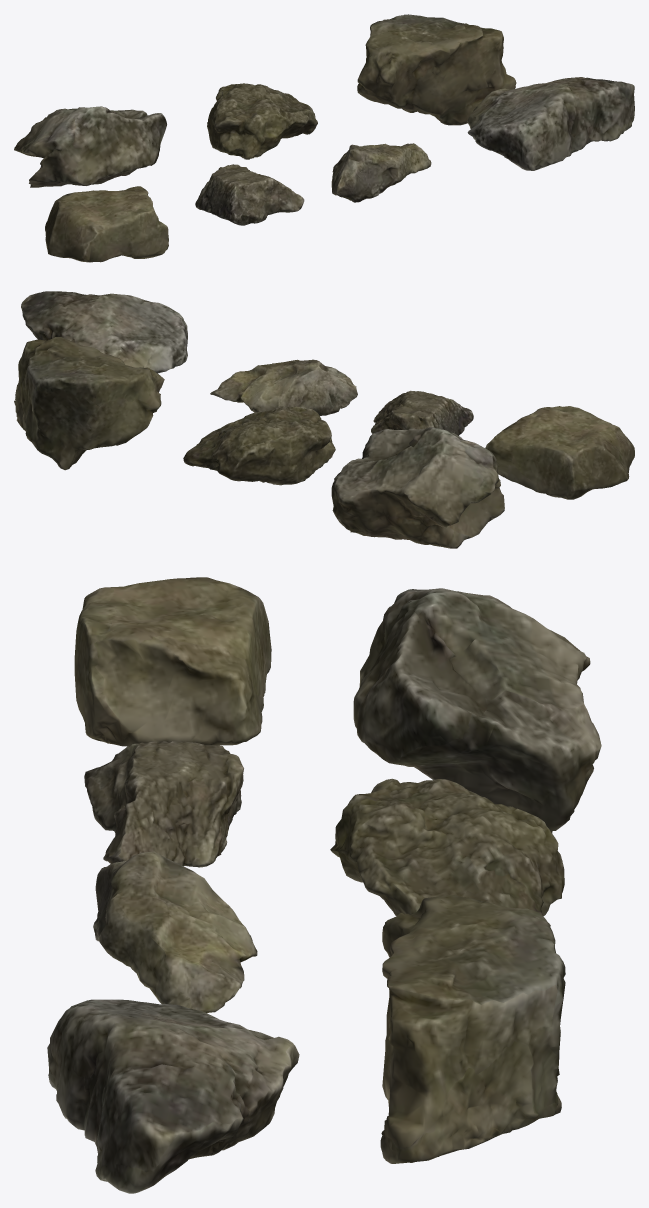
Rendered from rock_moss_set_02.glb.
The picture shows the model from 3 angles, top to bottom: view 1: azimuth 30°, elevation 25°; view 2: azimuth 150°, elevation 25°; view 3: azimuth 270°, elevation 25°; orthographic projection. The views are drawn at different scales.
Visible parts, largest first — view 1: rock_moss_set_02_rock13, rock_moss_set_02_rock10, rock_moss_set_02_rock11, rock_moss_set_02_rock07, rock_moss_set_02_rock12, rock_moss_set_02_rock08, rock_moss_set_02_rock09; view 2: rock_moss_set_02_rock11, rock_moss_set_02_rock13, rock_moss_set_02_rock07, rock_moss_set_02_rock10, rock_moss_set_02_rock12, rock_moss_set_02_rock09, rock_moss_set_02_rock08; view 3: rock_moss_set_02_rock13, rock_moss_set_02_rock11, rock_moss_set_02_rock10, rock_moss_set_02_rock07, rock_moss_set_02_rock12, rock_moss_set_02_rock09, rock_moss_set_02_rock08.
Part boxes in pixels (left/top/right/bottom): rock_moss_set_02_rock13: left=357, top=14, right=516, bottom=125; rock_moss_set_02_rock10: left=467, top=77, right=634, bottom=170; rock_moss_set_02_rock11: left=14, top=106, right=166, bottom=187; rock_moss_set_02_rock07: left=45, top=186, right=168, bottom=262; rock_moss_set_02_rock12: left=207, top=83, right=317, bottom=159; rock_moss_set_02_rock08: left=195, top=164, right=304, bottom=225; rock_moss_set_02_rock09: left=331, top=143, right=431, bottom=202; rock_moss_set_02_rock11: left=331, top=427, right=504, bottom=548; rock_moss_set_02_rock13: left=14, top=337, right=164, bottom=470; rock_moss_set_02_rock07: left=485, top=406, right=634, bottom=499; rock_moss_set_02_rock10: left=21, top=291, right=187, bottom=373; rock_moss_set_02_rock12: left=183, top=406, right=335, bottom=485; rock_moss_set_02_rock09: left=210, top=359, right=357, bottom=415; rock_moss_set_02_rock08: left=371, top=390, right=473, bottom=435; rock_moss_set_02_rock13: left=380, top=895, right=565, bottom=1163; rock_moss_set_02_rock11: left=353, top=588, right=601, bottom=833; rock_moss_set_02_rock10: left=47, top=999, right=299, bottom=1193; rock_moss_set_02_rock07: left=74, top=577, right=271, bottom=746; rock_moss_set_02_rock12: left=330, top=778, right=564, bottom=926; rock_moss_set_02_rock09: left=93, top=851, right=257, bottom=1012; rock_moss_set_02_rock08: left=84, top=741, right=243, bottom=867.
Size of the model in its own units: 8.28 by 1.37 by 3.41.
Materials: 1 (1 with a texture image).
